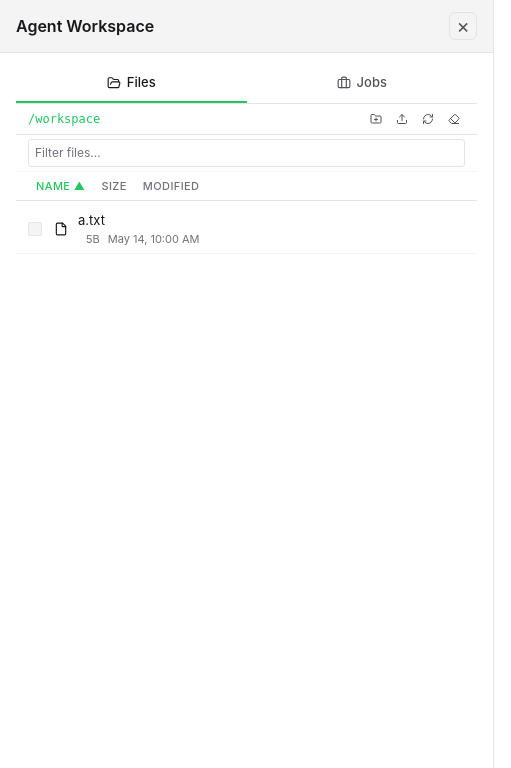
FileSystemDrawer Stage C: tab switch preserves preview › switching to Jobs and back keeps the preview open
Check: the text "a.txt" is shown, box [78,212,105,228]
Click the text "a.txt" at (139, 229), box [78,212,200,246]
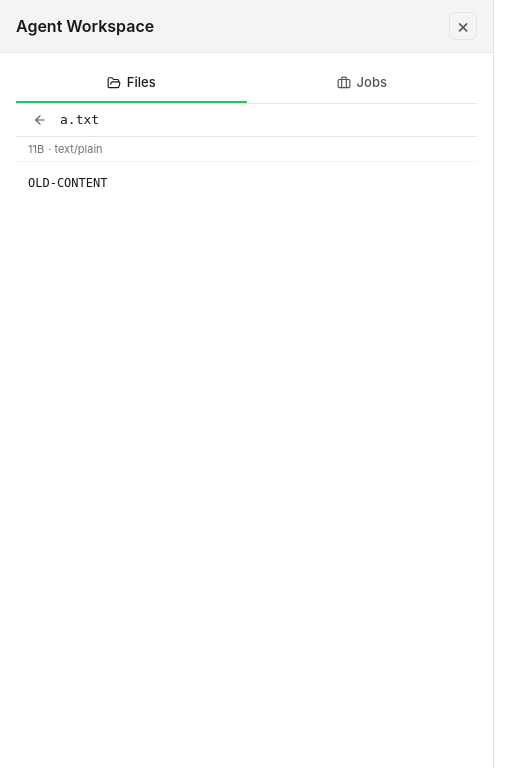
Check: the text "OLD-CONTENT" is shown, box [28,176,108,190]
Click the button "Jobs" at (362, 84), box [246,65,477,102]
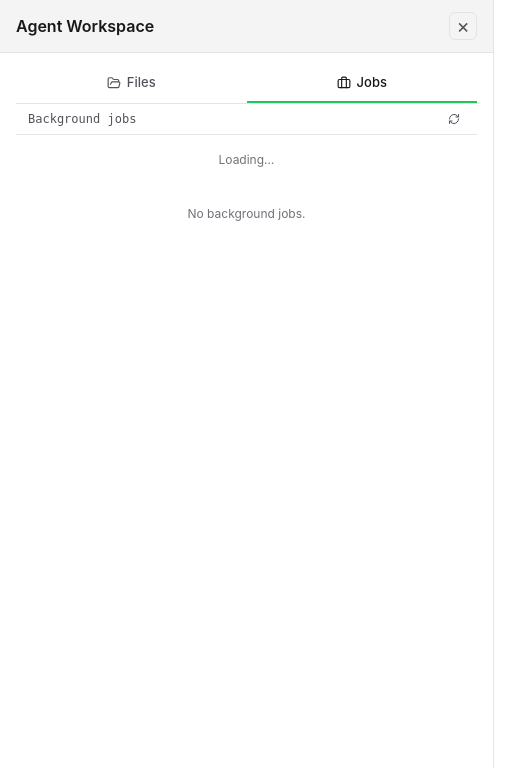
Check: the text "No background jobs." is shown, box [188,206,306,220]
Click the button "Files" at (131, 84), box [16,65,246,102]
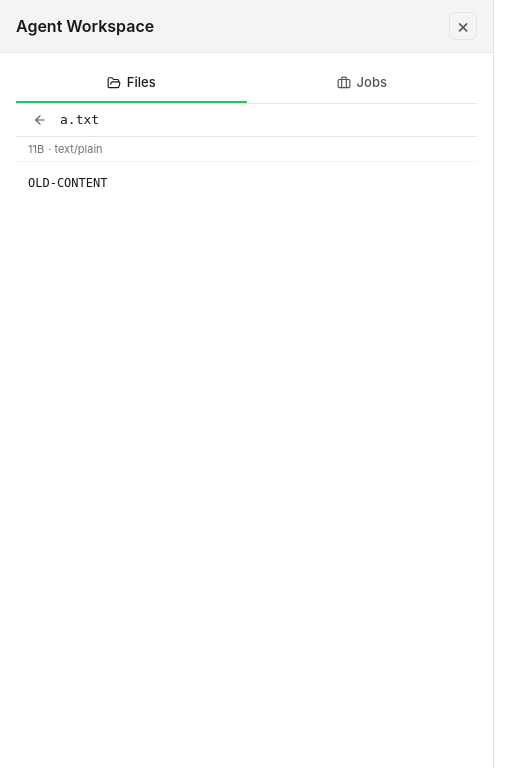
Check: the text "OLD-CONTENT" is shown, box [28,176,108,190]
